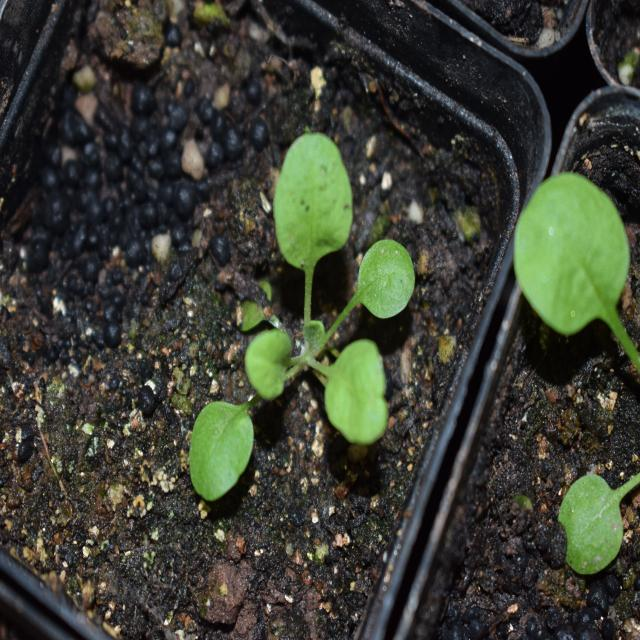Shepherd_Purse: (172, 142, 412, 490)
